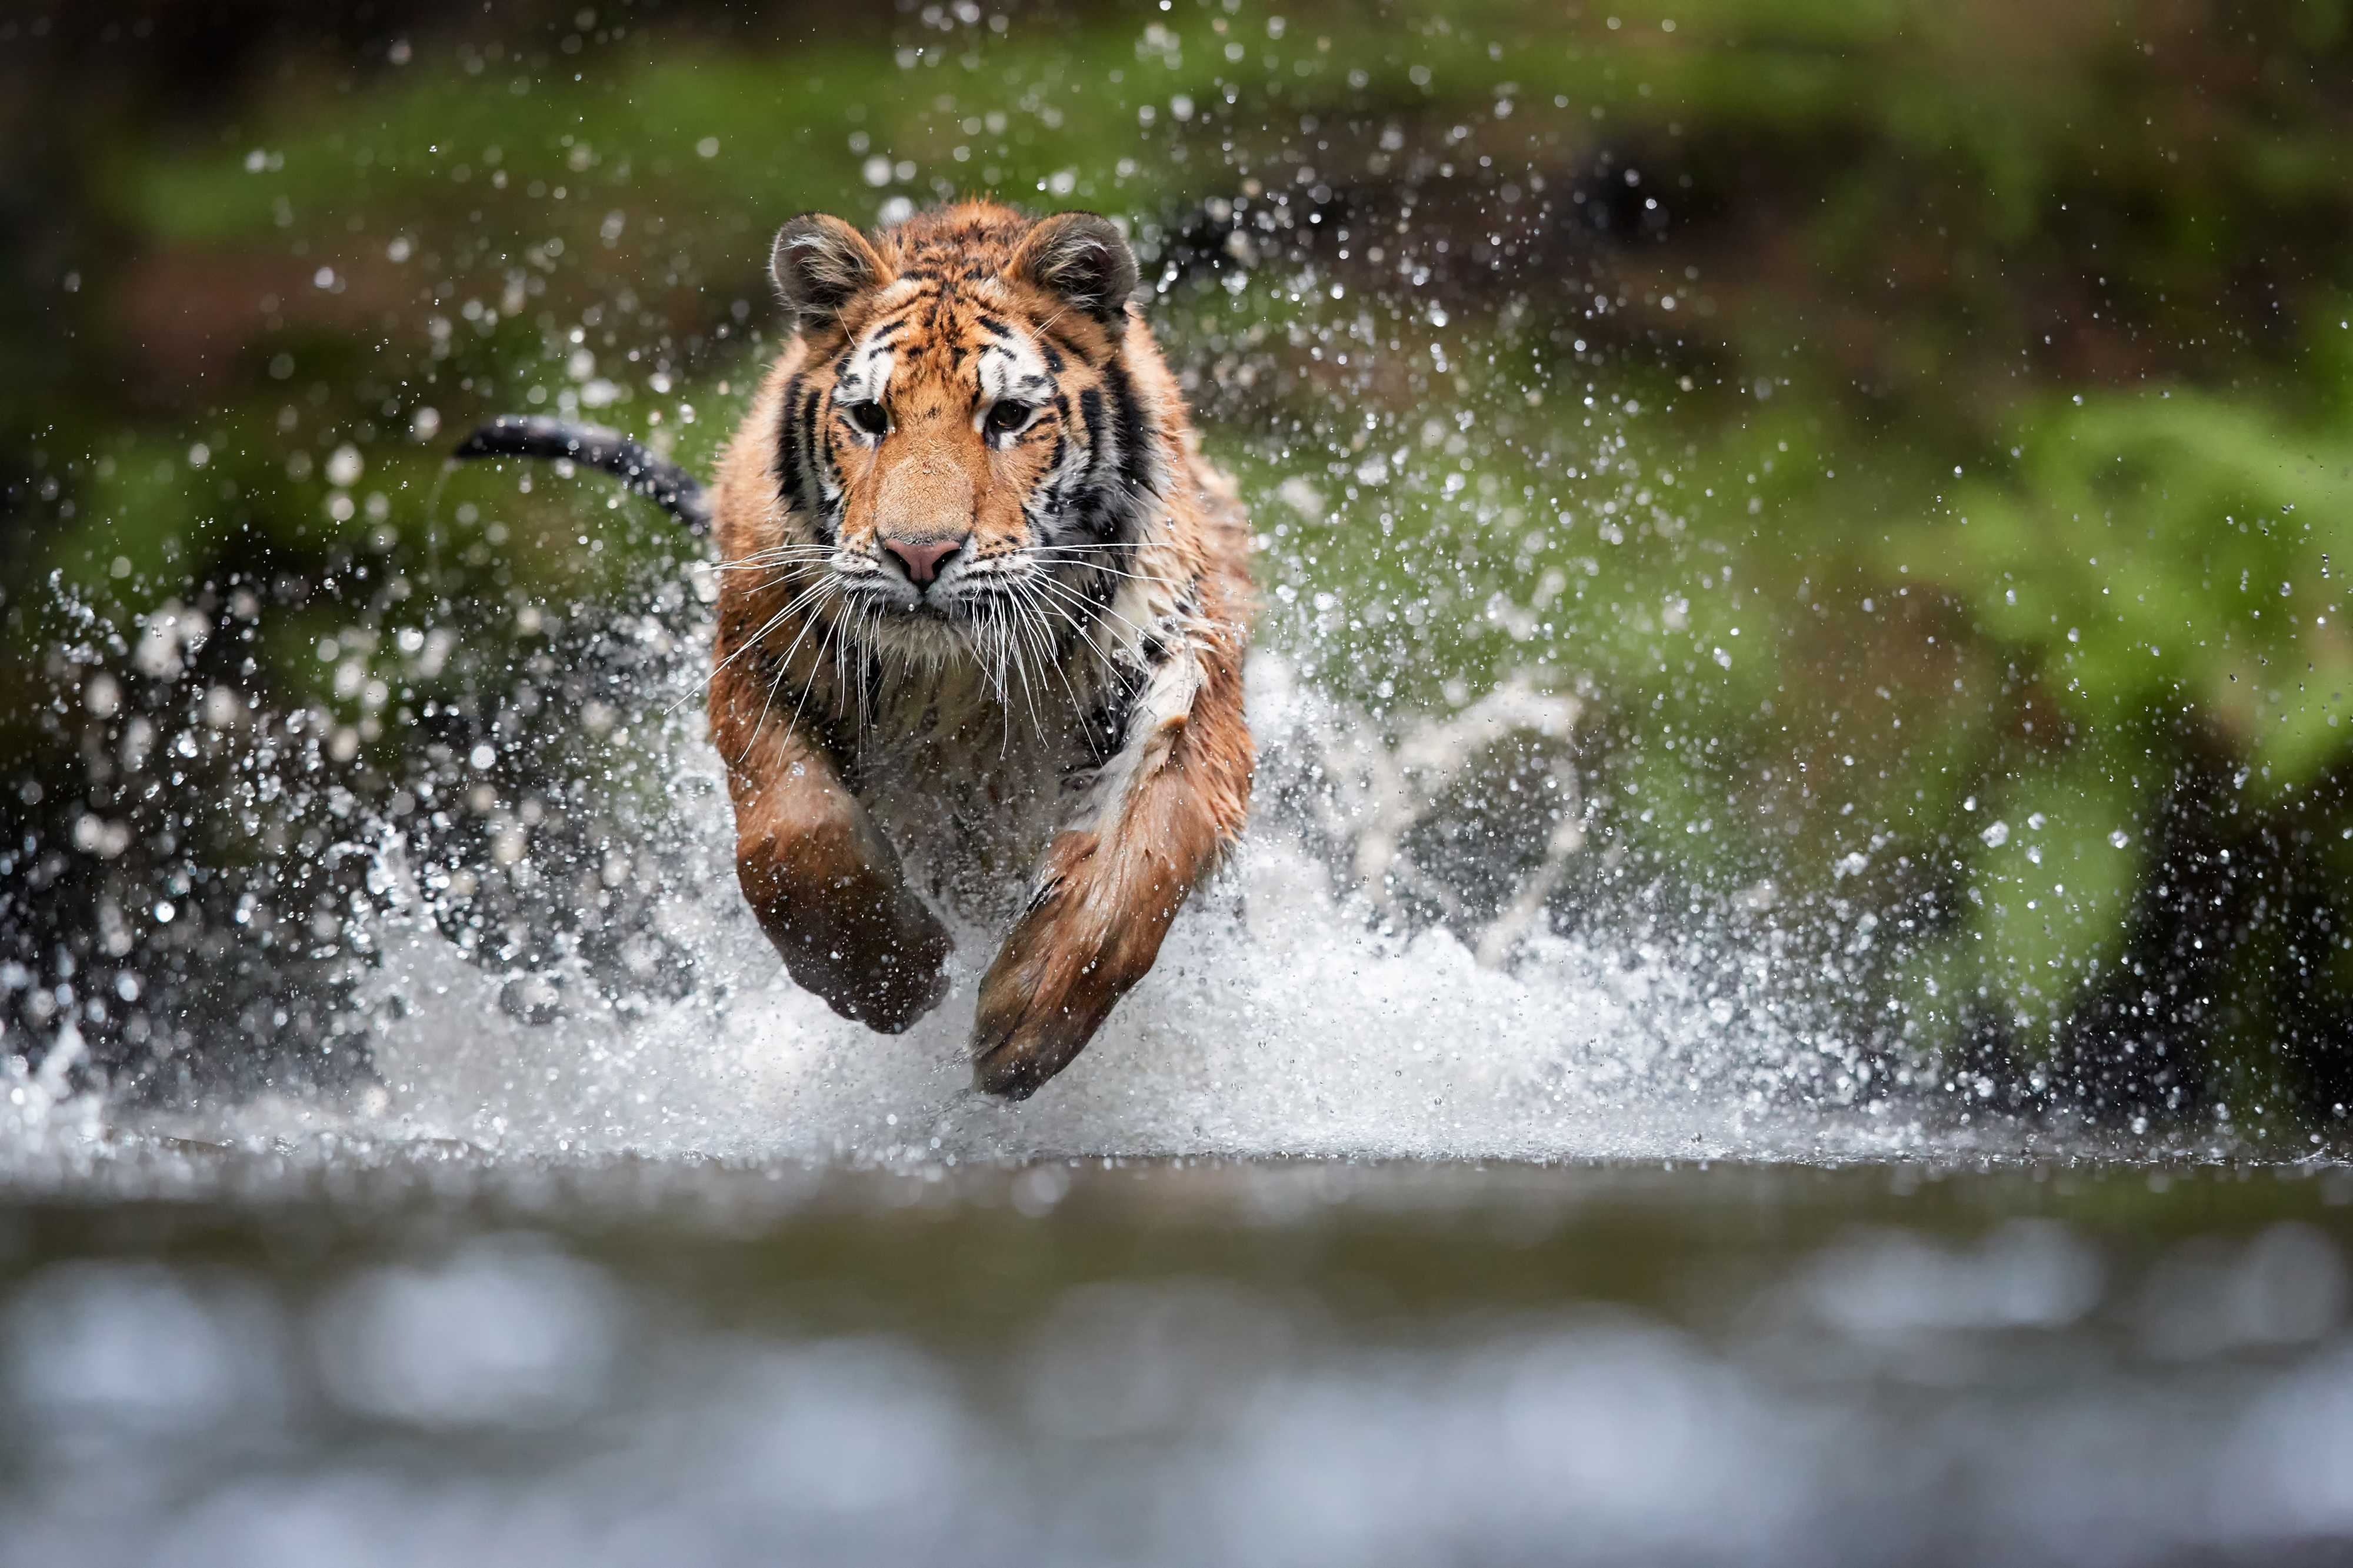tiger: (598, 192, 1391, 1125)
